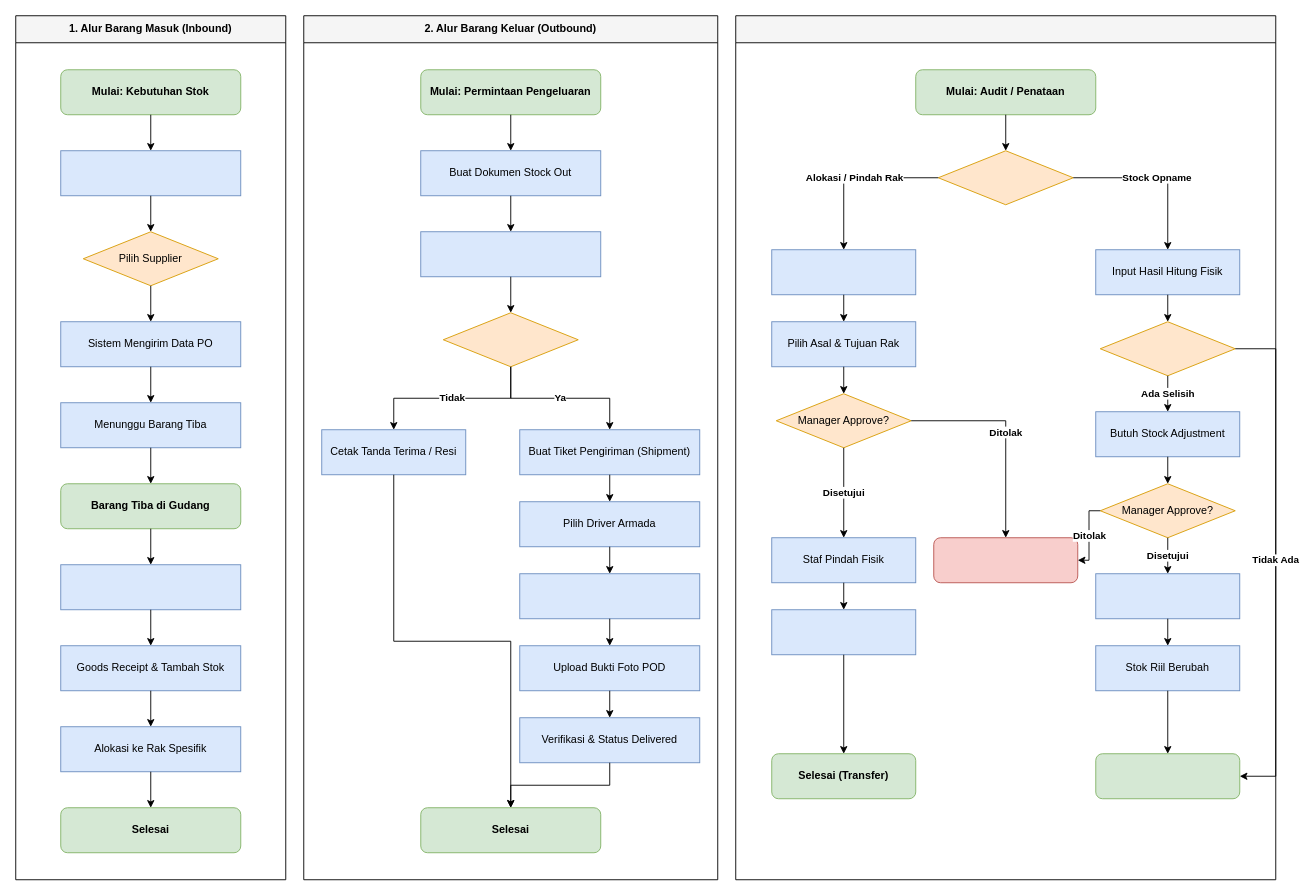
The diagram is 1315 pixels wide and 896 high, and some of its shapes have lost their labels. Each missing label, with the box of its shape:
3. Alur Manajemen Stok (Internal): (735, 15, 1276, 880)
Ada Selisih?: (1099, 321, 1235, 376)
Buat Purchase Order: (60, 150, 241, 196)
Buat Stock Transfer: (771, 249, 916, 295)
Butuh Diantar Armada?: (442, 312, 578, 367)
Dibatalkan: (933, 537, 1078, 583)
Pengecekan Fisik: (60, 564, 241, 610)
Pilih Proses: (937, 150, 1073, 205)
Selesai (Opname): (1095, 753, 1240, 799)
Sistem Auto Adjustment: (1095, 573, 1240, 619)
Sistem Memotong Stok Asli: (420, 231, 601, 277)
Status: In Transit: (519, 573, 700, 619)
Update Peta Visual Rak: (771, 609, 916, 655)
